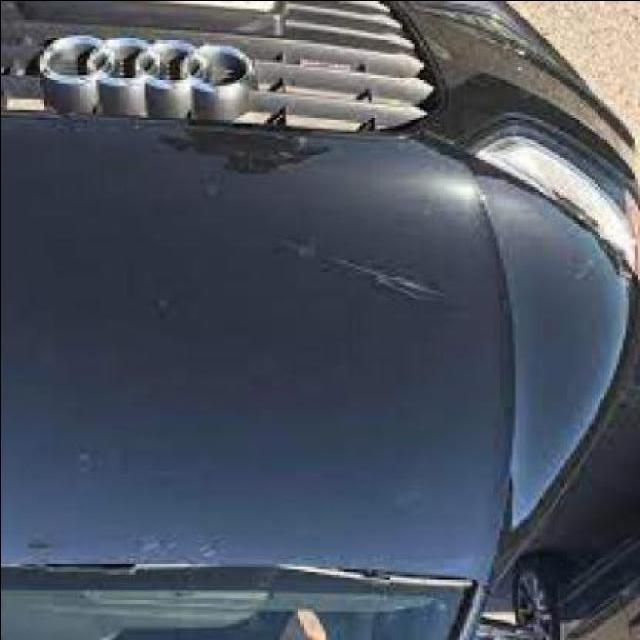bonnet-dent: (3, 110, 603, 567)
